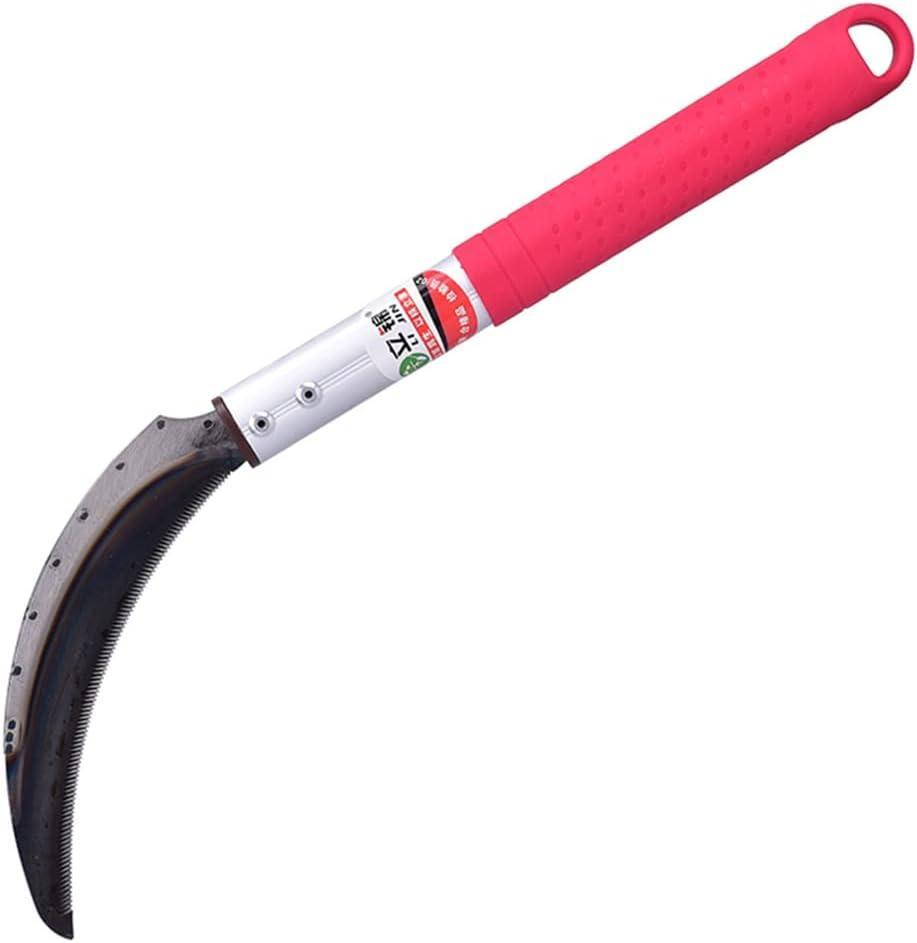foice: (0, 36, 913, 920)
